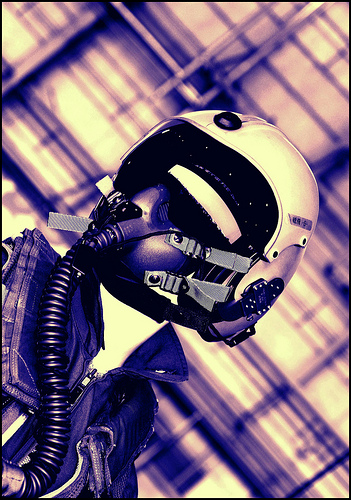helmet: (116, 127, 315, 308)
